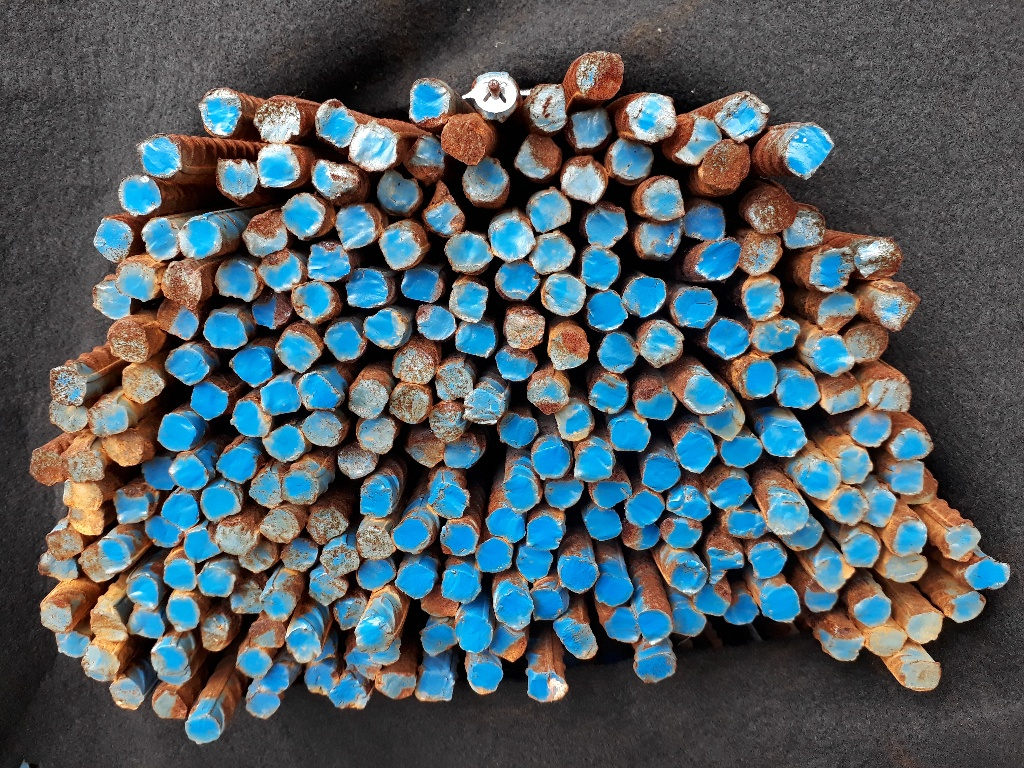dipstick: (781, 120, 835, 181), (715, 91, 771, 144), (699, 139, 752, 189), (420, 181, 467, 236), (624, 93, 675, 143), (745, 185, 797, 234), (673, 116, 723, 165), (574, 50, 623, 100), (349, 121, 398, 171), (471, 71, 520, 120), (557, 156, 607, 204), (275, 326, 325, 373), (253, 97, 301, 145), (871, 283, 918, 332), (514, 134, 562, 180), (636, 321, 684, 367), (440, 115, 485, 164), (401, 134, 445, 183), (200, 87, 243, 137), (489, 217, 535, 263), (313, 98, 357, 146), (853, 238, 902, 281), (408, 77, 449, 128), (695, 237, 741, 282), (462, 157, 508, 202), (699, 397, 745, 442), (445, 231, 491, 276), (606, 137, 653, 181), (738, 231, 783, 276), (527, 83, 569, 131), (530, 232, 574, 277), (376, 170, 421, 214), (378, 227, 422, 272), (333, 206, 378, 250), (178, 216, 223, 260), (280, 194, 326, 237), (246, 212, 288, 259), (540, 273, 585, 316), (117, 173, 163, 215), (621, 274, 665, 317), (761, 417, 805, 460), (389, 381, 432, 425), (256, 144, 299, 188), (107, 318, 150, 362), (552, 618, 597, 660), (114, 260, 160, 301), (94, 217, 134, 264), (311, 160, 360, 198), (816, 291, 859, 334), (258, 251, 301, 294), (638, 220, 682, 262), (527, 190, 571, 232), (810, 335, 854, 377), (674, 430, 716, 474), (797, 460, 842, 501), (141, 134, 182, 179), (674, 287, 717, 329), (707, 318, 750, 360), (159, 261, 201, 304), (588, 468, 632, 509), (305, 504, 349, 545), (344, 267, 389, 307), (306, 242, 351, 282), (495, 263, 541, 302), (586, 207, 627, 250), (393, 342, 436, 383), (682, 374, 726, 414), (580, 246, 619, 291), (142, 216, 181, 261), (644, 178, 685, 220), (810, 251, 851, 293), (596, 331, 638, 372), (548, 329, 589, 371), (92, 279, 134, 320), (572, 442, 615, 482), (230, 347, 273, 387), (741, 282, 785, 321), (122, 364, 166, 403), (566, 111, 612, 148), (587, 374, 629, 414), (503, 309, 545, 349), (216, 260, 256, 302), (323, 323, 366, 362), (705, 538, 743, 582), (401, 267, 445, 305), (296, 372, 340, 410), (203, 312, 248, 349), (100, 428, 145, 465), (428, 400, 468, 441), (188, 380, 229, 420), (364, 308, 406, 347), (291, 283, 334, 321), (262, 425, 305, 463), (526, 378, 570, 415), (165, 347, 209, 384), (751, 319, 800, 352), (888, 426, 934, 461), (448, 282, 487, 323), (156, 301, 197, 340), (531, 436, 569, 478), (167, 452, 210, 489), (966, 555, 1010, 591), (426, 482, 470, 518), (198, 485, 242, 521), (866, 378, 911, 413), (632, 386, 677, 421), (587, 290, 627, 329), (348, 378, 388, 417), (216, 158, 256, 197), (49, 367, 88, 407), (782, 513, 823, 551), (455, 321, 496, 359), (498, 411, 539, 449), (682, 203, 724, 240), (885, 518, 927, 555), (215, 446, 257, 483), (156, 413, 198, 450), (775, 375, 819, 410), (665, 484, 709, 519), (707, 476, 752, 510), (215, 520, 260, 554), (784, 210, 824, 248), (356, 416, 396, 454), (840, 532, 881, 569), (554, 400, 591, 441), (80, 644, 121, 681), (845, 324, 887, 360), (740, 358, 776, 400), (609, 417, 651, 453), (486, 507, 528, 543), (525, 669, 568, 704), (495, 346, 538, 381), (829, 489, 868, 527), (435, 366, 475, 403), (721, 433, 762, 469), (624, 490, 665, 526), (406, 430, 447, 466), (395, 564, 437, 599), (722, 507, 766, 540), (943, 523, 980, 562), (641, 454, 680, 491), (301, 410, 340, 447), (884, 458, 924, 494), (883, 551, 928, 583), (494, 591, 534, 627), (416, 304, 456, 340), (516, 544, 553, 582), (455, 615, 493, 652), (558, 559, 598, 594), (464, 389, 504, 424), (260, 381, 300, 416), (88, 401, 128, 436), (851, 414, 892, 448), (464, 662, 505, 696), (355, 527, 396, 561), (80, 544, 114, 585), (820, 381, 862, 414), (543, 476, 585, 509), (943, 591, 986, 623), (633, 651, 676, 683), (585, 504, 622, 541), (603, 607, 641, 643), (490, 626, 528, 662), (475, 536, 513, 572), (29, 448, 65, 486), (669, 560, 708, 595), (659, 518, 703, 549), (862, 488, 896, 528), (593, 573, 634, 606), (258, 510, 300, 542), (826, 626, 863, 662), (443, 433, 480, 469), (834, 449, 872, 484), (112, 487, 150, 522), (252, 293, 291, 327), (667, 605, 707, 638), (420, 584, 460, 617), (356, 558, 396, 591), (337, 446, 378, 478), (865, 625, 907, 656), (636, 609, 672, 645), (504, 477, 540, 513), (812, 557, 847, 594), (694, 582, 731, 617), (228, 578, 265, 613), (320, 543, 358, 577), (184, 527, 222, 561), (391, 519, 430, 552), (92, 538, 131, 571), (161, 494, 200, 527), (441, 572, 481, 604), (415, 670, 455, 702), (308, 574, 348, 606), (525, 514, 561, 549), (65, 452, 107, 482), (142, 456, 178, 491), (905, 611, 942, 645), (285, 630, 322, 664), (280, 471, 318, 504), (90, 609, 128, 642), (196, 565, 235, 597), (49, 400, 88, 432), (38, 552, 79, 582), (355, 620, 391, 654), (163, 557, 197, 593), (420, 623, 457, 656), (854, 596, 893, 627), (621, 520, 661, 550), (248, 664, 288, 694), (185, 714, 225, 744), (249, 472, 284, 506), (61, 481, 102, 510), (440, 524, 477, 556), (232, 400, 264, 437), (46, 529, 83, 561), (149, 645, 189, 674), (127, 609, 167, 638), (110, 676, 144, 710), (901, 471, 936, 504), (803, 579, 838, 612), (359, 485, 394, 518), (333, 597, 368, 630), (331, 677, 367, 709), (165, 599, 201, 631), (723, 593, 758, 625), (375, 670, 415, 698), (237, 543, 277, 571), (305, 665, 341, 696), (903, 661, 940, 691), (281, 539, 318, 569), (145, 513, 178, 546), (528, 589, 562, 621), (260, 588, 296, 618), (152, 690, 188, 720), (200, 614, 229, 651), (250, 619, 285, 649), (235, 648, 272, 676), (53, 630, 90, 658), (247, 692, 281, 721), (68, 507, 103, 535), (40, 601, 72, 630), (346, 648, 381, 673), (371, 637, 401, 665), (155, 670, 189, 684)
